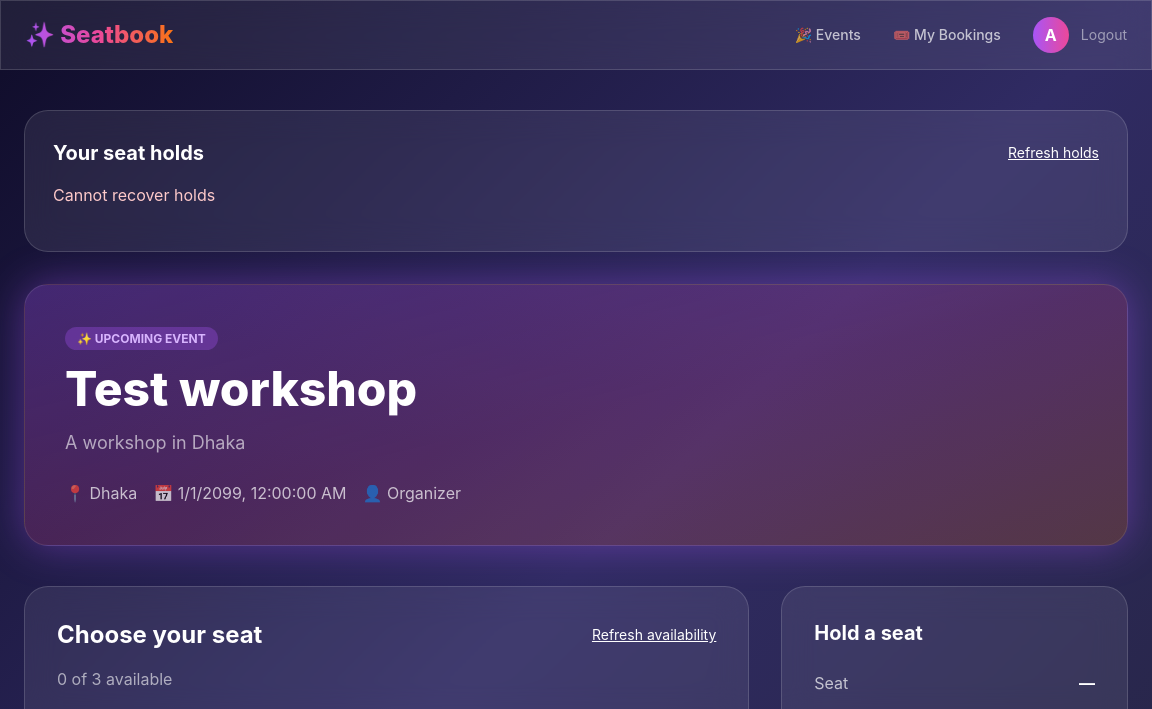
Scenario: offers recovery retry without reporting a network failure as an empty success
Expected: the message reads "Cannot recover holds", [53,185,215,205]
Click the button "Refresh holds". click: (1054, 153)
box: [1008,143,1099,163]
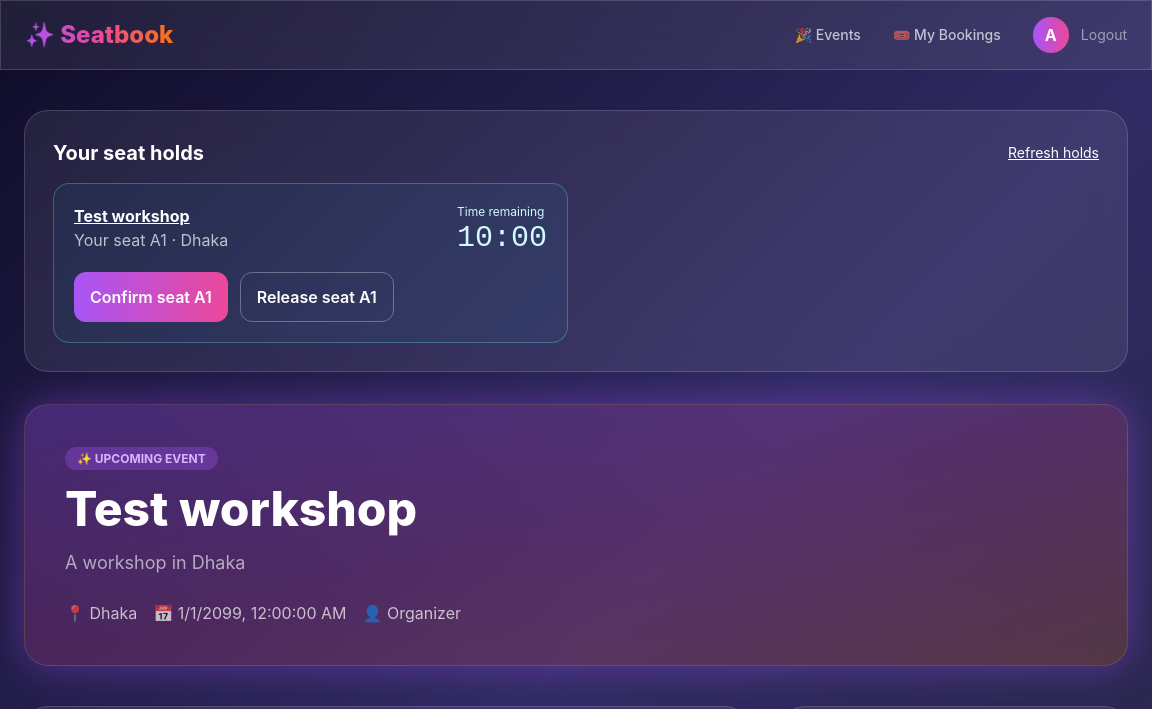
Expected: the text "10:00" is shown, [457,221,547,255]
Expected: the message "Cannot recover holds" is gone
